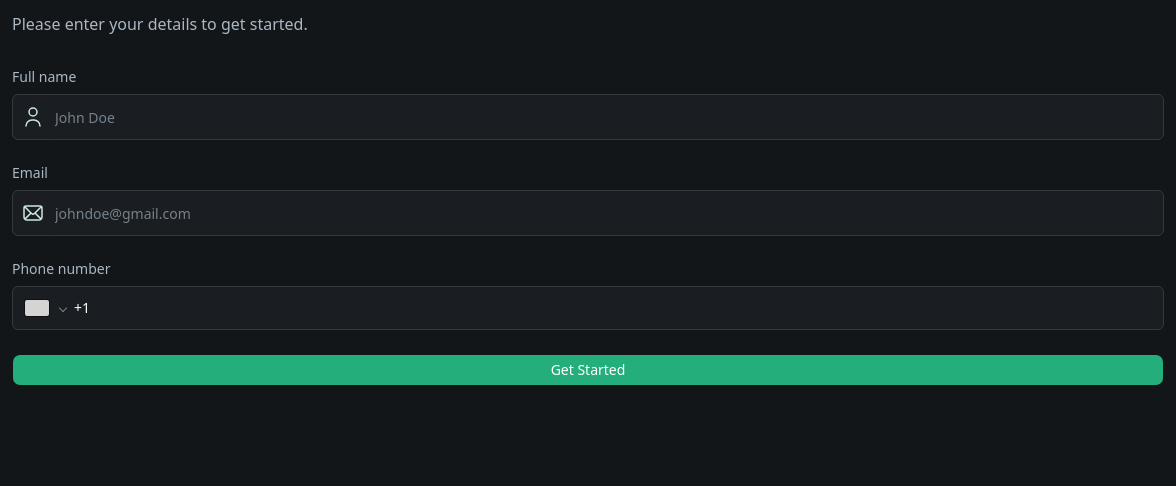
Test: PatientForm › shows validation errors and does not create a user for invalid values
What coordinates should you click on to do the following:
click the button "Get Started"
I would click on:
 (588, 370)
Its box is top-left (12, 354), bottom-right (1164, 386).
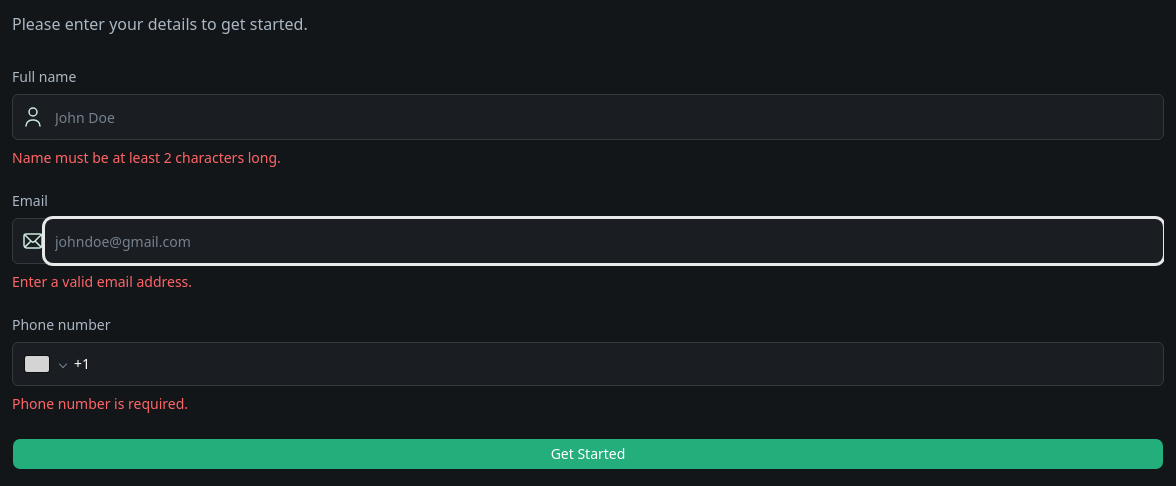
Now the text "Name must be at least 2 characters long." is shown, box top-left (12, 148), bottom-right (281, 167)
Now the text "Enter a valid email address." is shown, box top-left (12, 272), bottom-right (192, 291)
Now the text "Phone number is required." is shown, box top-left (12, 394), bottom-right (188, 413)
